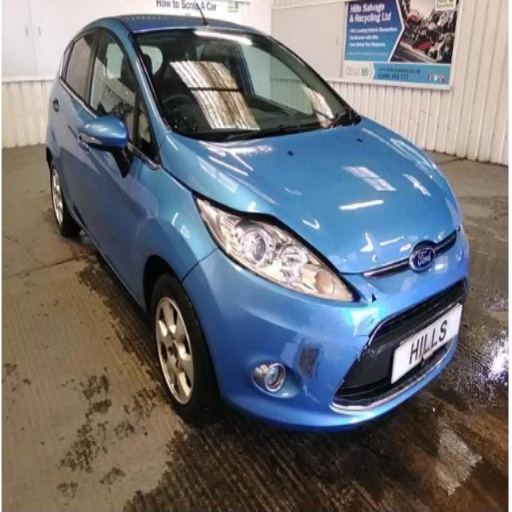scratch: (298, 346, 321, 380), (314, 361, 320, 380), (356, 334, 370, 338)
